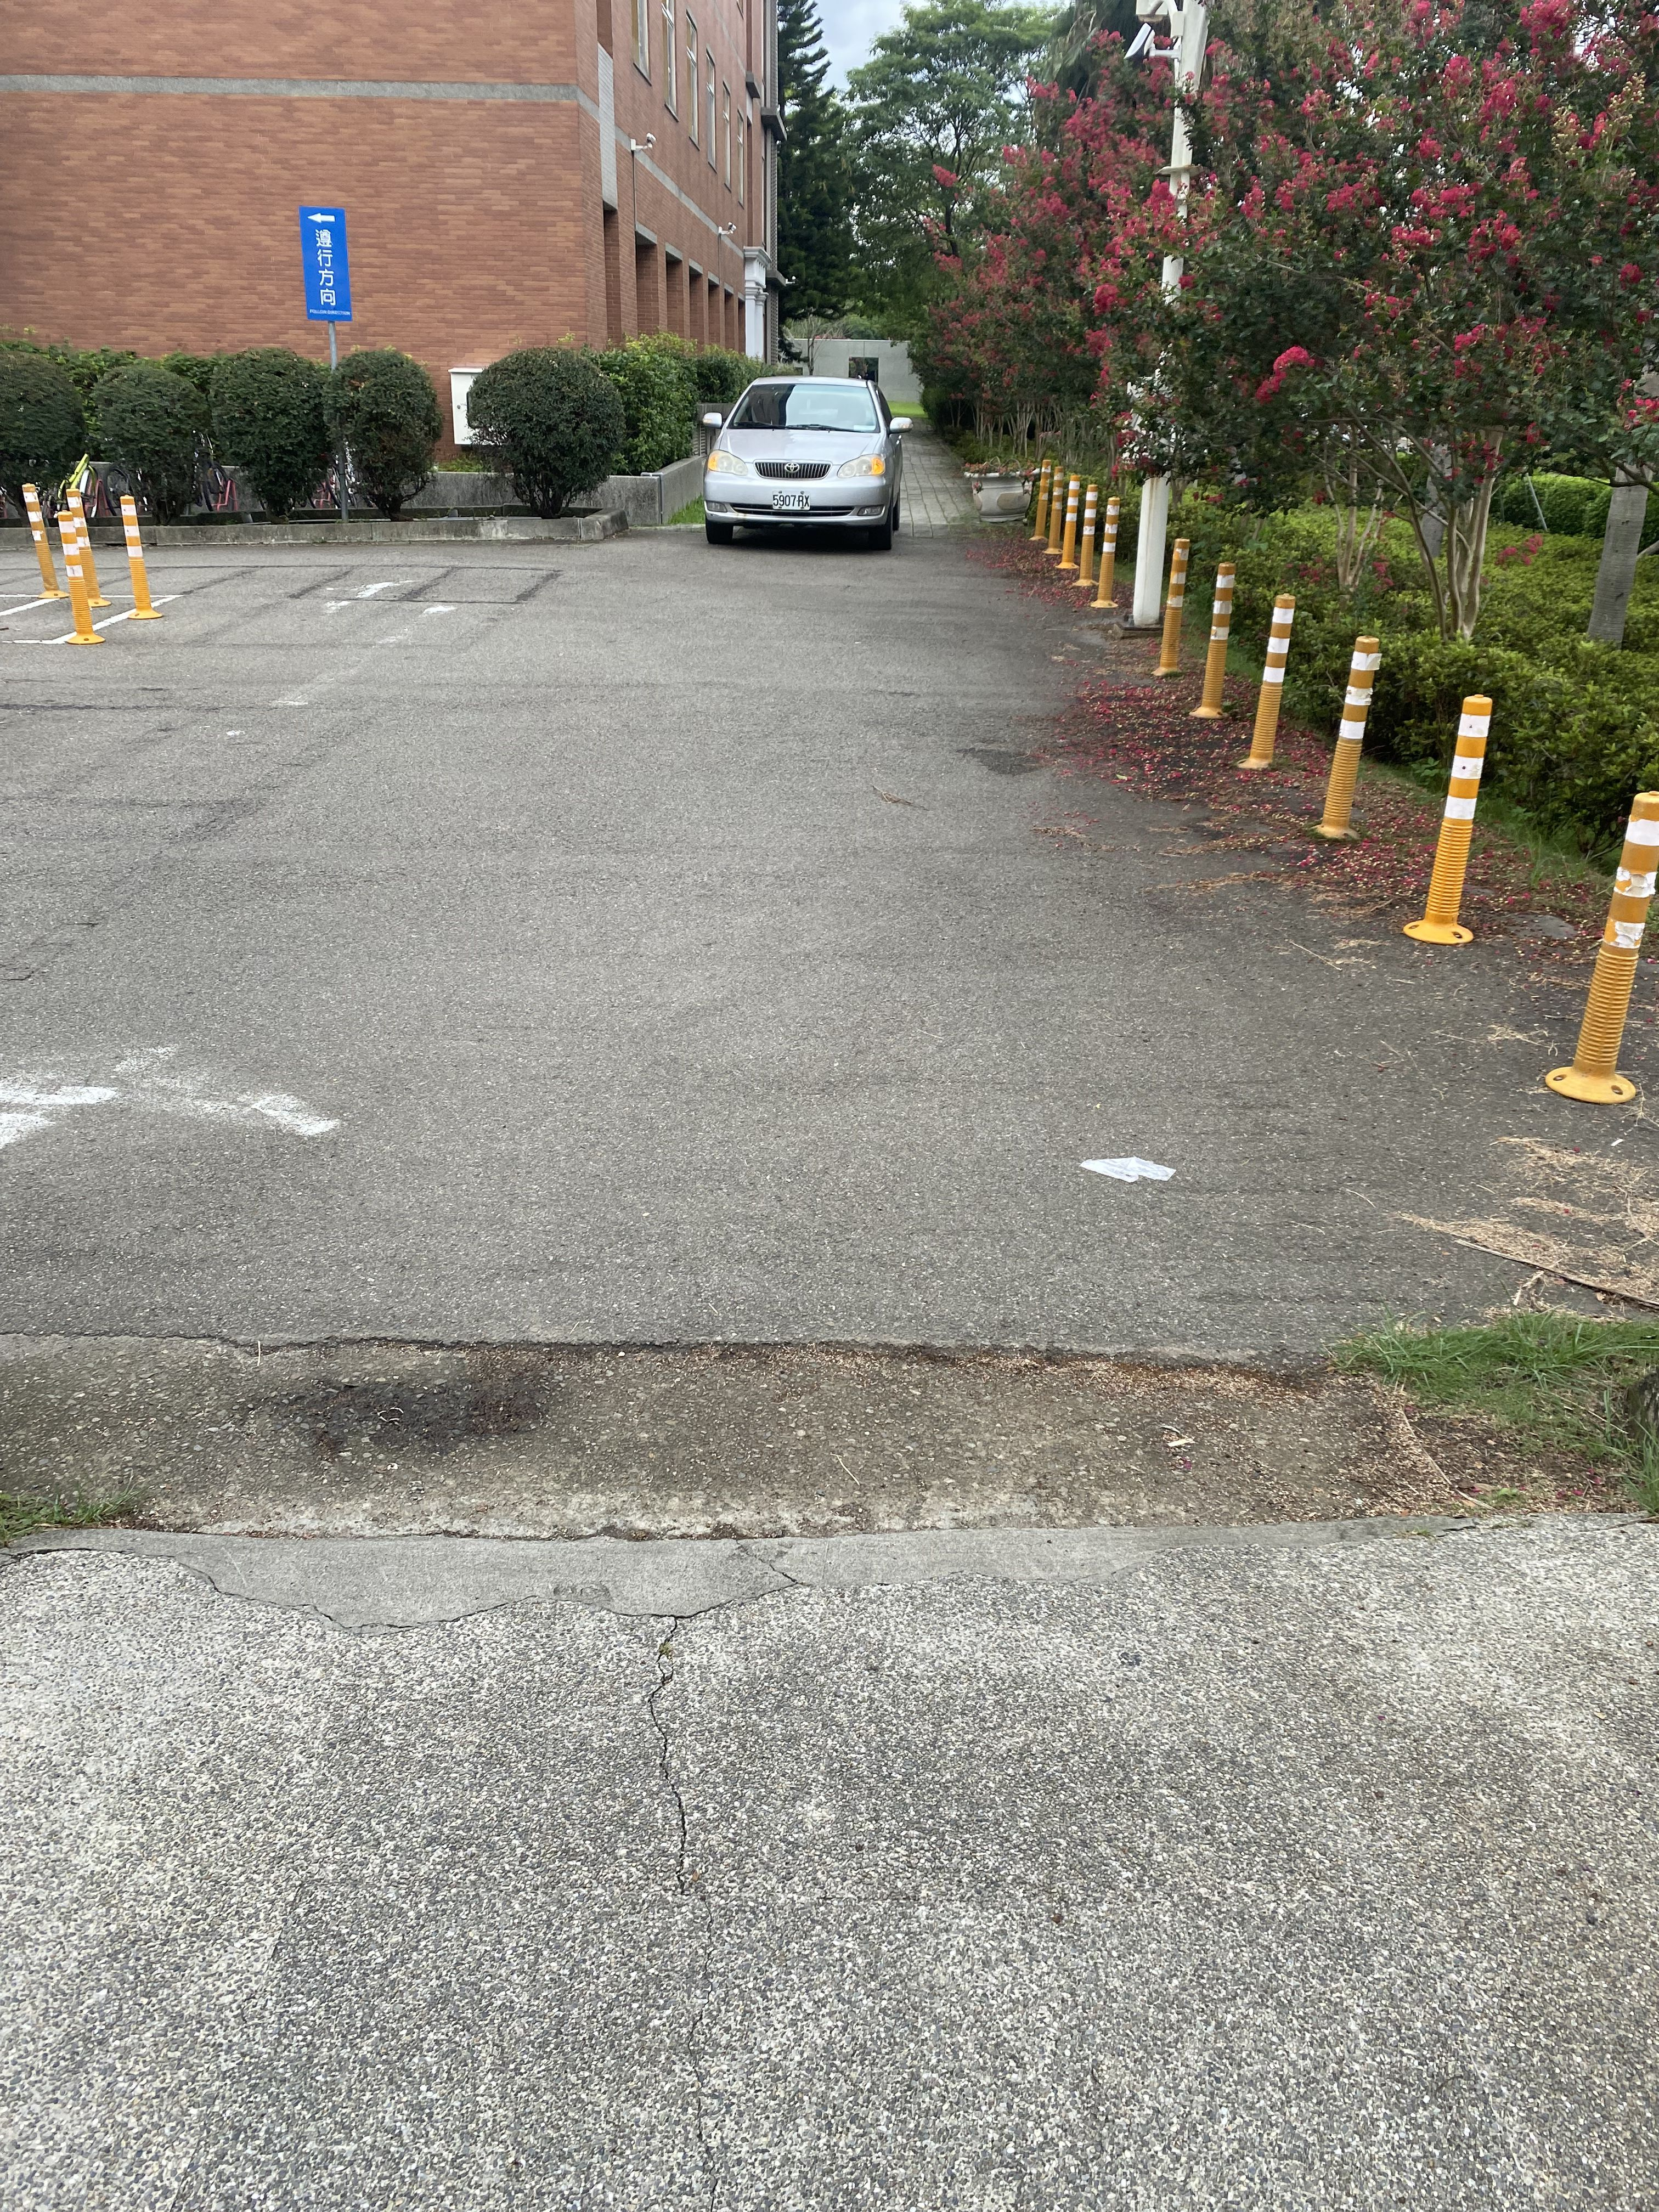0: (634, 352, 997, 1541)
sidewalk: (0, 1266, 1659, 2212)
